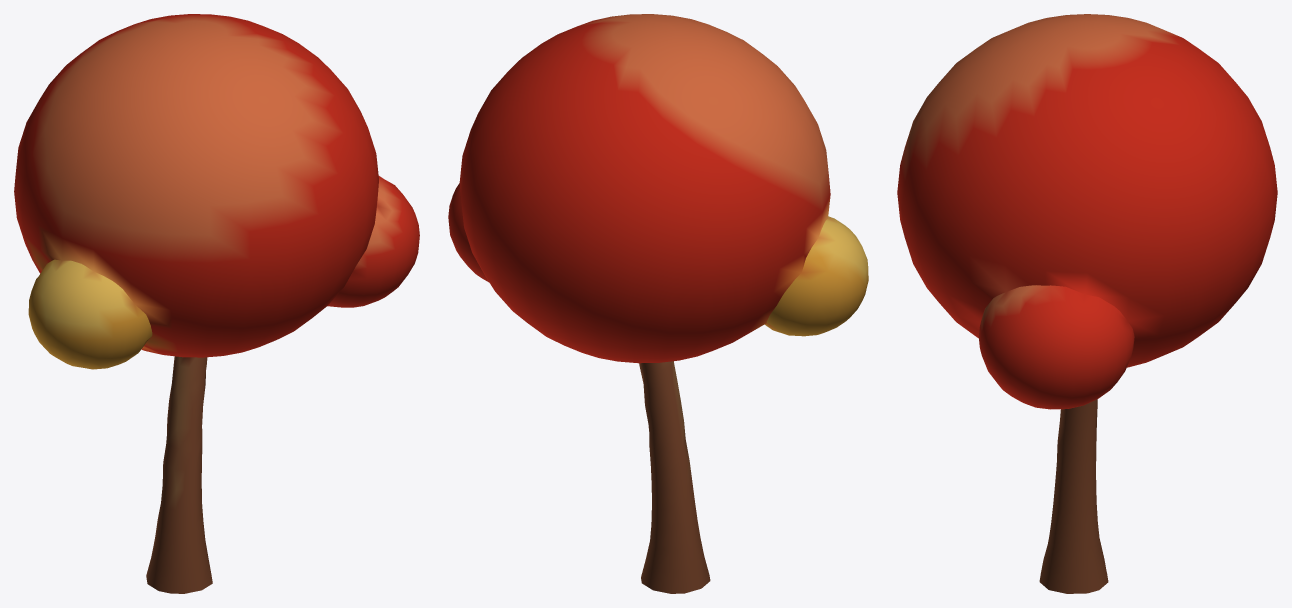
File: lollipop-tree-106-lod1.obj
3 renders of one model, left to right at view 1: azimuth 30°, elevation 25°; view 2: azimuth 150°, elevation 25°; view 3: azimuth 270°, elevation 25°, orthographic. The views are drawn at different scales.
Visible parts, largest first — view 1: simplified; view 2: simplified; view 3: simplified.
Boxes of the visible parts, left/top/right/bottom form: simplified: left=14, top=14, right=419, bottom=593; simplified: left=448, top=14, right=868, bottom=593; simplified: left=897, top=14, right=1277, bottom=593.
Bounding box in the file's own units: 368 × 492 × 304.
